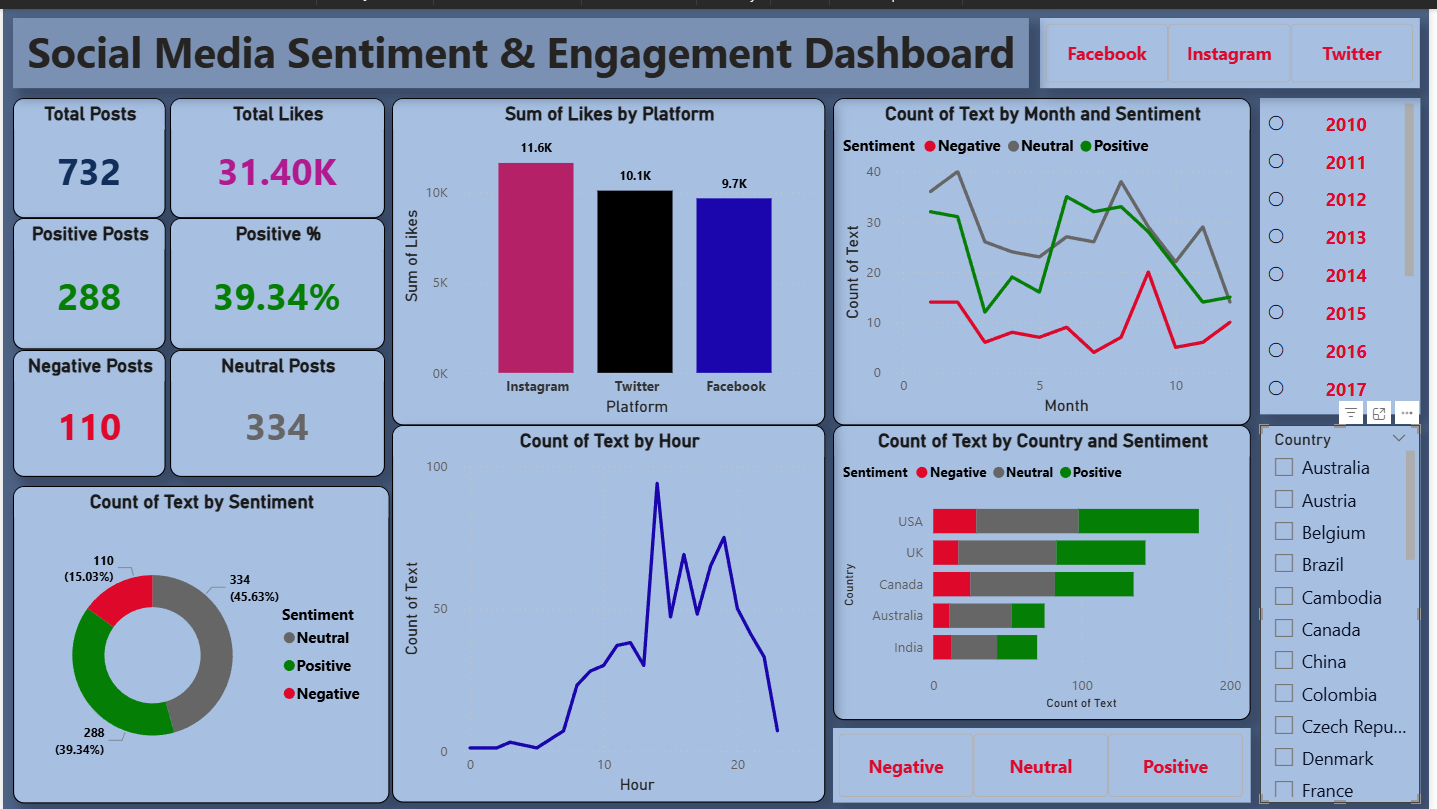

This screenshot's page, from the dashboard's own definition file:
{"tool":"powerbi","page":{"name":"Page 1","canvas":[1280,720],"ordinal":0},"visuals":[{"type":"cardVisual","title":"Total Posts","fields":{"Data":["Sentiment_Analysis_Output.Total Posts"]},"box":[8.8,79.8,137.1,108],"z":0},{"type":"cardVisual","title":"Positive Posts","fields":{"Data":["Sentiment_Analysis_Output.Positive Posts"]},"box":[8.8,187.7,137.1,117.7],"z":1000},{"type":"cardVisual","title":"Negative Posts","fields":{"Data":["Sentiment_Analysis_Output.Negative Posts"]},"box":[8.8,306.4,137.1,113.8],"z":2000},{"type":"cardVisual","title":"Total Likes","fields":{"Data":["Sentiment_Analysis_Output.Total Likes"]},"box":[149.8,79.8,192.6,108],"z":3000},{"type":"cardVisual","title":"Positive %","fields":{"Data":["Sentiment_Analysis_Output.Positive %"]},"box":[149.8,187.7,192.6,117.7],"z":4000},{"type":"cardVisual","title":"Neutral Posts","fields":{"Data":["Sentiment_Analysis_Output.Neutral Posts"]},"box":[149.8,306.4,192.6,113.8],"z":5000},{"type":"donutChart","fields":{"Category":["Sentiment_Analysis_Output.Sentiment"],"Y":["CountNonNull(Sentiment_Analysis_Output.Text)"]},"box":[8.8,428,337.5,285],"z":6000},{"type":"lineChart","fields":{"Category":["Sentiment_Analysis_Output.Month"],"Y":["CountNonNull(Sentiment_Analysis_Output.Text)"],"Series":["Sentiment_Analysis_Output.Sentiment"]},"box":[745,79.8,375.4,293.7],"z":7000},{"type":"barChart","fields":{"Category":["Sentiment_Analysis_Output.Country"],"Y":["CountNonNull(Sentiment_Analysis_Output.Text)"],"Series":["Sentiment_Analysis_Output.Sentiment"]},"box":[745,373.5,375.4,264.6],"z":8000},{"type":"columnChart","fields":{"Category":["Sentiment_Analysis_Output.Platform"],"Y":["Sum(Sentiment_Analysis_Output.Likes)"]},"box":[349.2,79.8,389.1,293.7],"z":9000},{"type":"lineChart","fields":{"Category":["Sentiment_Analysis_Output.Hour"],"Y":["CountNonNull(Sentiment_Analysis_Output.Text)"]},"box":[349.2,373.5,389.1,339.5],"z":10000},{"type":"listSlicer","fields":{"Values":["Sentiment_Analysis_Output.Year"]},"box":[1128.3,79.8,144,284],"z":11000},{"type":"advancedSlicerVisual","fields":{"Values":["Sentiment_Analysis_Output.Platform"]},"box":[930.8,7.8,341.4,63.2],"z":12000},{"type":"slicer","fields":{"Values":["Sentiment_Analysis_Output.Country"]},"box":[1128.3,373.5,144,339.5],"z":13000},{"type":"advancedSlicerVisual","fields":{"Values":["Sentiment_Analysis_Output.Sentiment"]},"box":[745,645.8,375.4,67.1],"z":14000},{"type":"textbox","box":[8.8,7.8,912.3,63.2],"z":15000}]}

Visuals, with their boxes in screenshot pixels (x1, y1, x2, y2), scaled from the page's 1280x720 canvas onto the 1437x809 screenshot:
"Total Posts" cardVisual: {"left": 10, "top": 90, "right": 164, "bottom": 211}
"Positive Posts" cardVisual: {"left": 10, "top": 211, "right": 164, "bottom": 343}
"Negative Posts" cardVisual: {"left": 10, "top": 344, "right": 164, "bottom": 472}
"Total Likes" cardVisual: {"left": 168, "top": 90, "right": 384, "bottom": 211}
"Positive %" cardVisual: {"left": 168, "top": 211, "right": 384, "bottom": 343}
"Neutral Posts" cardVisual: {"left": 168, "top": 344, "right": 384, "bottom": 472}
donutChart - Sentiment_Analysis_Output.Sentiment x CountNonNull(Sentiment_Analysis_Output.Text): {"left": 10, "top": 481, "right": 389, "bottom": 801}
lineChart - Sentiment_Analysis_Output.Month x CountNonNull(Sentiment_Analysis_Output.Text): {"left": 836, "top": 90, "right": 1258, "bottom": 420}
barChart - Sentiment_Analysis_Output.Country x CountNonNull(Sentiment_Analysis_Output.Text): {"left": 836, "top": 420, "right": 1258, "bottom": 717}
columnChart - Sentiment_Analysis_Output.Platform x Sum(Sentiment_Analysis_Output.Likes): {"left": 392, "top": 90, "right": 829, "bottom": 420}
lineChart - Sentiment_Analysis_Output.Hour x CountNonNull(Sentiment_Analysis_Output.Text): {"left": 392, "top": 420, "right": 829, "bottom": 801}
listSlicer - Sentiment_Analysis_Output.Year: {"left": 1267, "top": 90, "right": 1428, "bottom": 409}
advancedSlicerVisual - Sentiment_Analysis_Output.Platform: {"left": 1045, "top": 9, "right": 1428, "bottom": 80}
slicer - Sentiment_Analysis_Output.Country: {"left": 1267, "top": 420, "right": 1428, "bottom": 801}
advancedSlicerVisual - Sentiment_Analysis_Output.Sentiment: {"left": 836, "top": 726, "right": 1258, "bottom": 801}
textbox: {"left": 10, "top": 9, "right": 1034, "bottom": 80}
